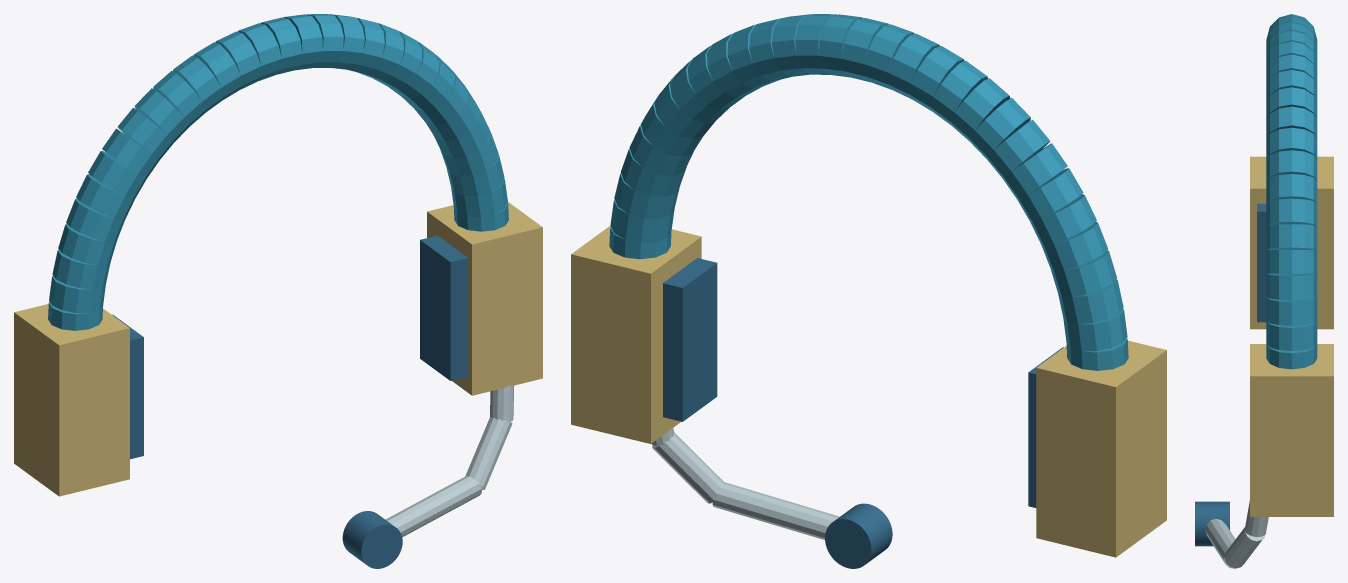
The model's file is atendimento.glb.
The picture shows the model from 3 angles, left to right: view 1: azimuth 30°, elevation 25°; view 2: azimuth 150°, elevation 25°; view 3: azimuth 270°, elevation 25°; orthographic projection. The views are drawn at different scales.
Visible parts, largest first — view 1: left_earcup, right_earcup, ear_pad_1, microphone_capsule, microphone_boom_2, ear_pad_-1, microphone_boom_1, headband_4, headband_5, headband_6, headband_3, headband_2 (+27 smaller); view 2: left_earcup, right_earcup, ear_pad_1, microphone_capsule, microphone_boom_2, microphone_boom_1, headband_5, headband_6, headband_4, headband_3, headband_2, headband_9 (+26 smaller); view 3: right_earcup, left_earcup, headband_27, headband_28, headband_25, headband_24, headband_29, headband_26, headband_23, headband_22, ear_pad_-1, headband_21 (+13 smaller).
Part boxes in pixels (x1,y1,x2,y2): left_earcup: (14, 304, 129, 496); right_earcup: (427, 202, 542, 395); ear_pad_1: (420, 235, 468, 380); microphone_capsule: (342, 511, 402, 568); microphone_boom_2: (385, 476, 481, 536); ear_pad_-1: (112, 315, 143, 459); microphone_boom_1: (465, 417, 512, 489); headband_4: (66, 198, 125, 242); headband_5: (76, 174, 135, 220); headband_6: (88, 151, 146, 198); headband_3: (58, 223, 116, 265); headband_2: (52, 249, 110, 289); left_earcup: (1036, 340, 1166, 557); right_earcup: (571, 225, 701, 443); ear_pad_1: (663, 258, 717, 421); microphone_capsule: (825, 503, 892, 568); microphone_boom_2: (712, 482, 839, 539); microphone_boom_1: (652, 432, 724, 503); headband_5: (1030, 194, 1096, 246); headband_6: (1017, 168, 1083, 222); headband_4: (1041, 221, 1107, 271); headband_3: (1051, 250, 1116, 297); headband_2: (1058, 279, 1123, 324); headband_9: (969, 98, 1030, 158); right_earcup: (1250, 344, 1333, 516); left_earcup: (1250, 156, 1333, 329); headband_27: (1266, 273, 1317, 299); headband_28: (1266, 297, 1317, 325); headband_25: (1266, 224, 1317, 249); headband_24: (1266, 198, 1317, 226); headband_29: (1266, 321, 1317, 350); headband_26: (1266, 249, 1317, 273); headband_23: (1266, 174, 1317, 202); headband_22: (1266, 150, 1317, 180); ear_pad_-1: (1257, 203, 1266, 322); headband_21: (1266, 127, 1317, 159).
Bounding box in the file's own units: 3.28 × 3.38 × 0.875.
